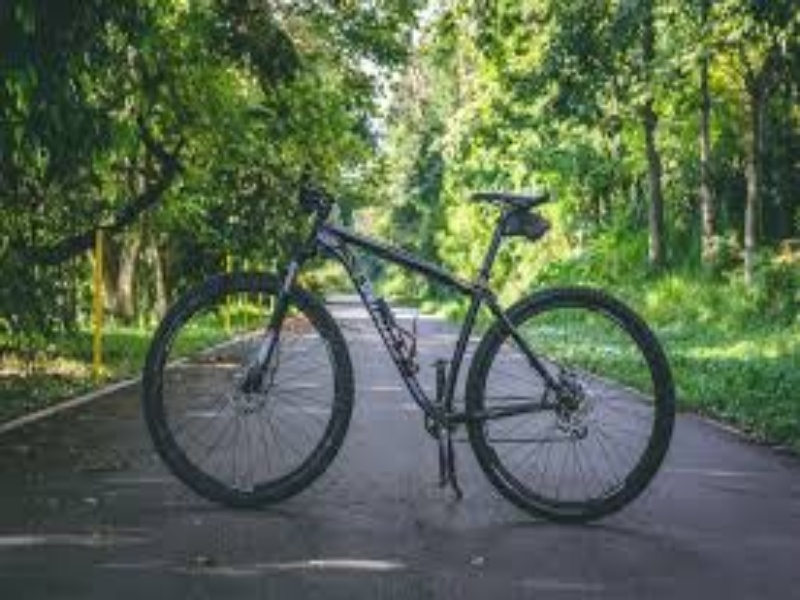bicycle: (129, 164, 692, 539)
